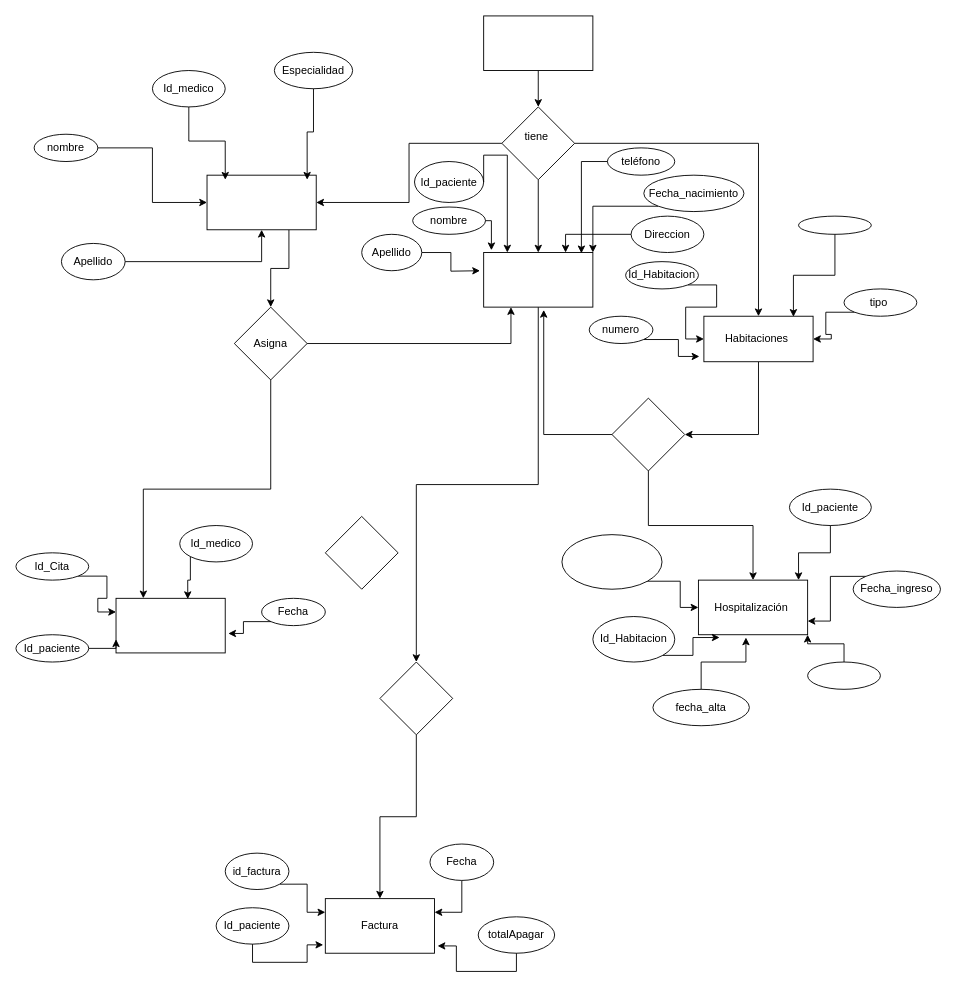
Some shapes in this 956 by 995 pixel diagram are drawn without their labels. The centre of each missing label's shape, as x and y in pixels:
"Atiende" belongs at [361,552].
"CitaMedica" belongs at [170,625].
"Estado" belongs at [834,224].
"Genera" belongs at [416,698].
"hora" belongs at [843,675].
"Hospital" belongs at [538,43].
"Id_Hospitalizacion" belongs at [611,561].
"Medicos" belongs at [261,202].
"Ocupa" belongs at [648,434].
"Pacientes" belongs at [538,279].
